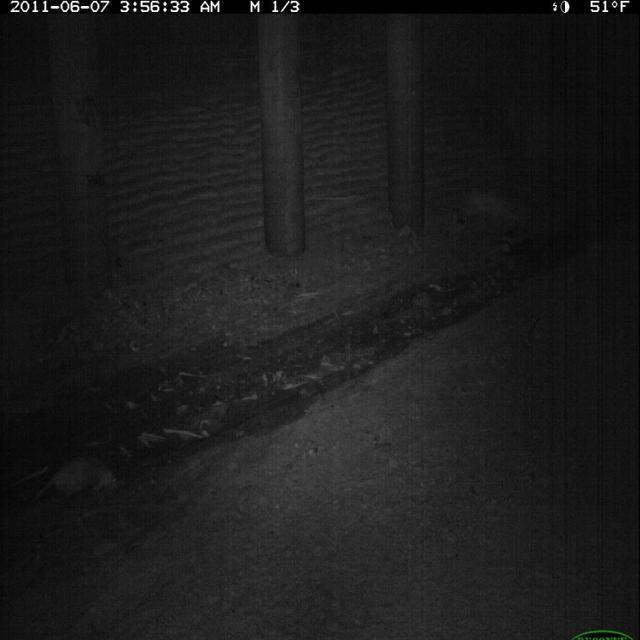opossum: (28, 448, 122, 514)
